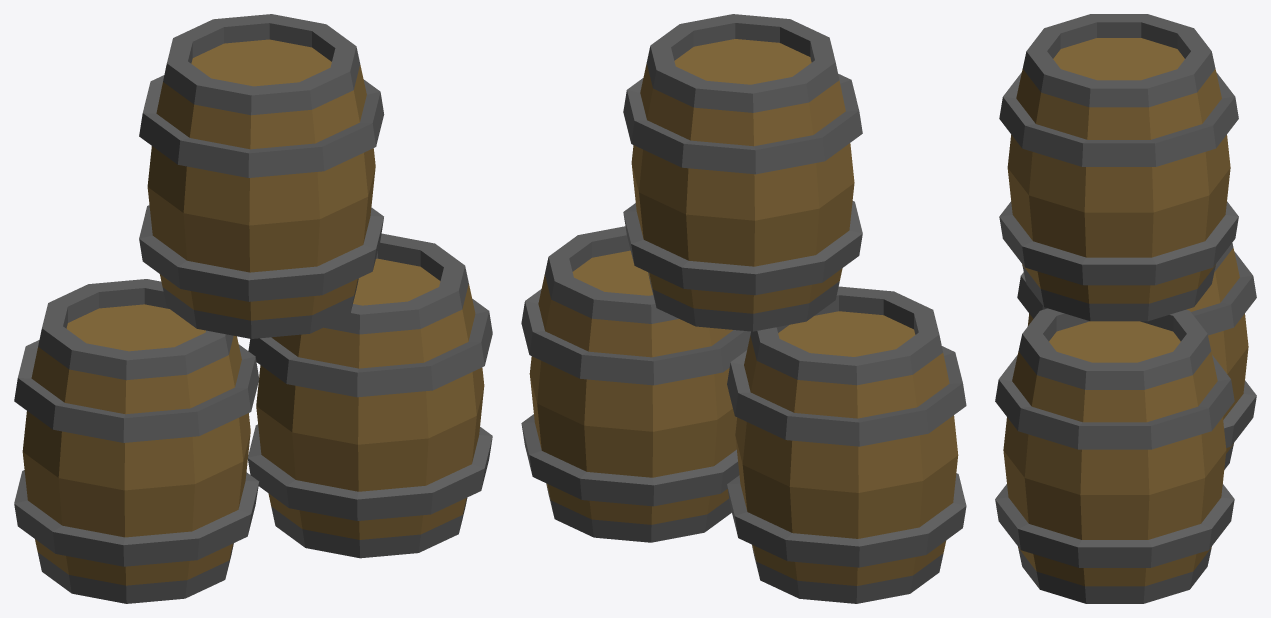
Rendered from wooden barrels.fbx.
The picture shows the model from 3 angles, left to right: view 1: azimuth 30°, elevation 25°; view 2: azimuth 150°, elevation 25°; view 3: azimuth 270°, elevation 25°; orthographic projection. The views are drawn at different scales.
Parts seen in each view (by area): view 1: wooden-barrels_LOD0; view 2: wooden-barrels_LOD0; view 3: wooden-barrels_LOD0.
Boxes of the visible parts, x1=… form: wooden-barrels_LOD0: x1=14, y1=14, x2=492, y2=603; wooden-barrels_LOD0: x1=521, y1=14, x2=966, y2=603; wooden-barrels_LOD0: x1=995, y1=14, x2=1256, y2=603.
Size of what is drawn, in the model's own units: 3.23 by 3.51 by 1.79.
